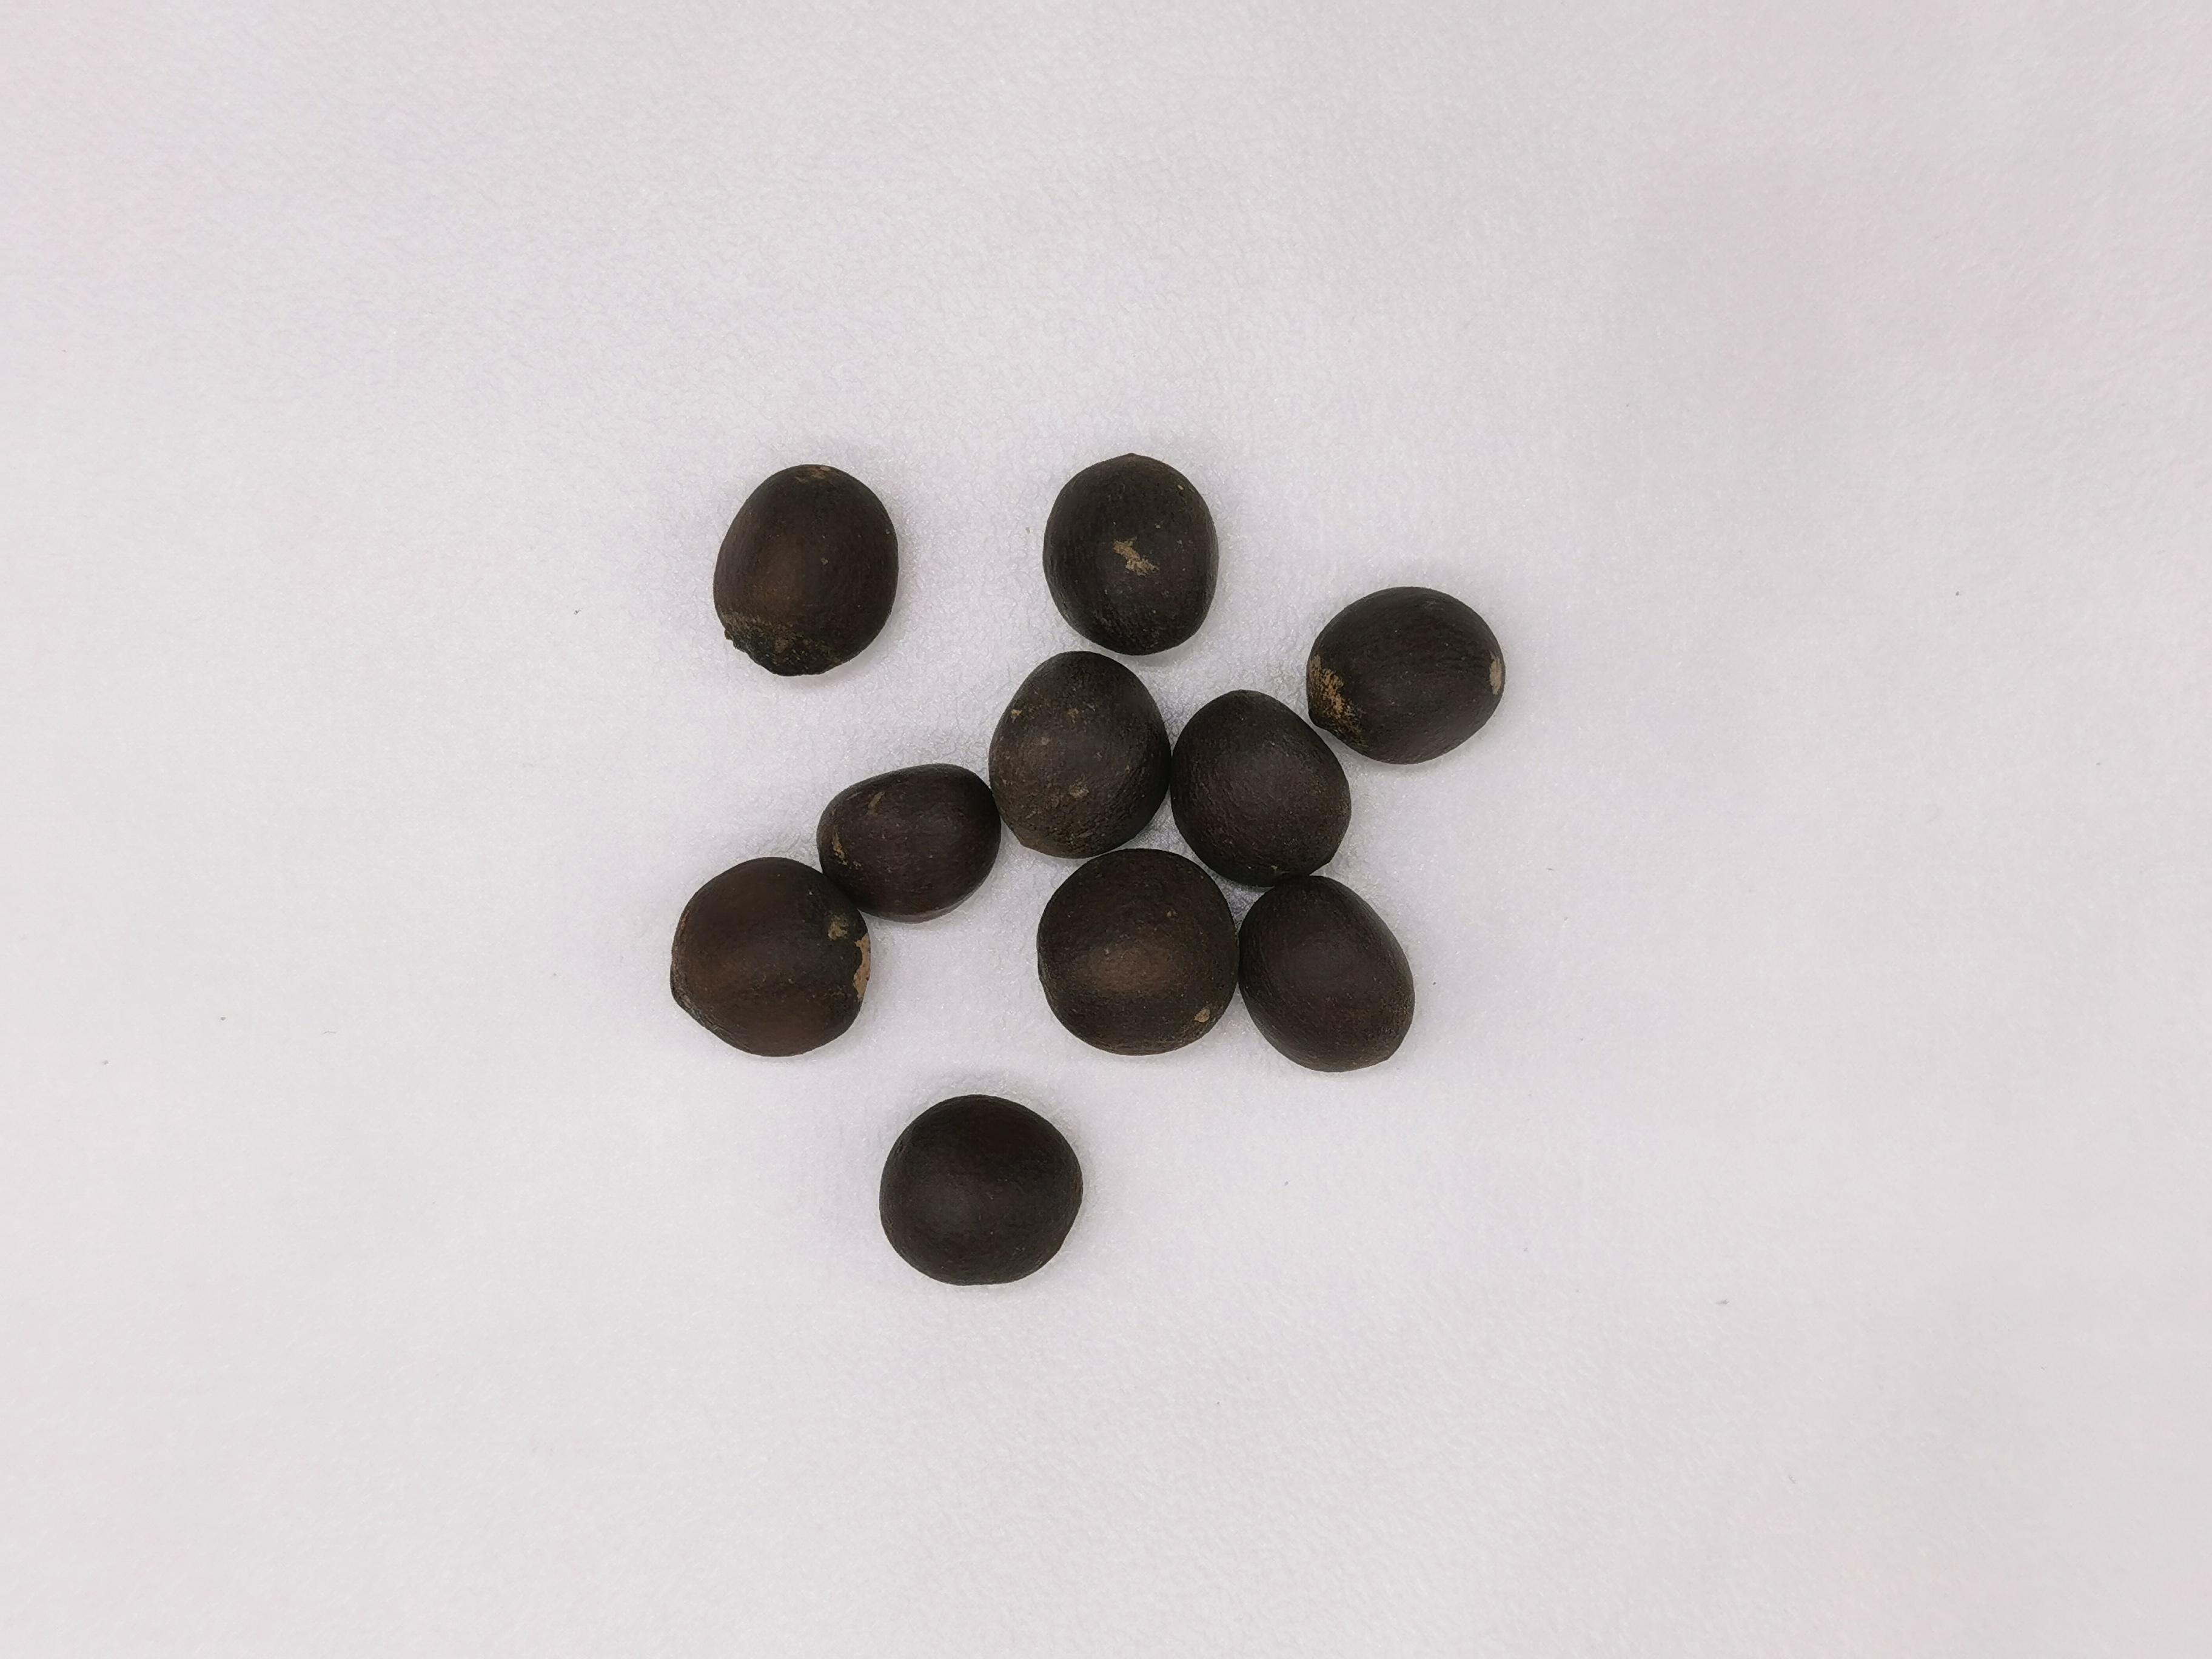seed: (1031, 847, 1240, 1061), (660, 852, 878, 1058), (702, 460, 902, 678), (871, 1089, 1089, 1290), (982, 647, 1174, 857), (1299, 586, 1510, 769), (1040, 448, 1221, 653), (1238, 873, 1416, 1075), (1170, 688, 1352, 880), (815, 758, 1005, 925)
